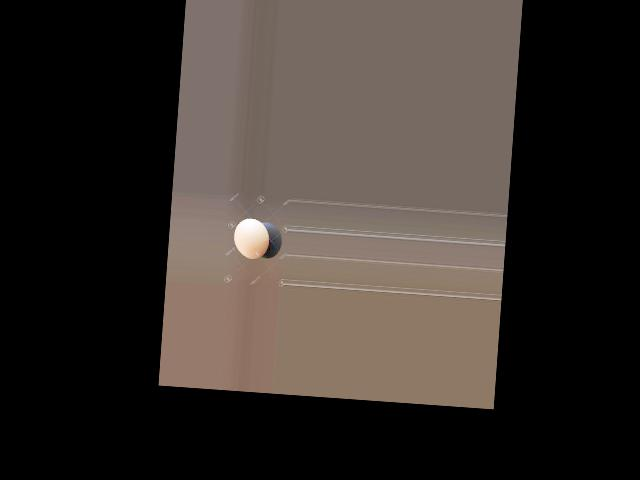egg: (232, 217, 271, 260)
